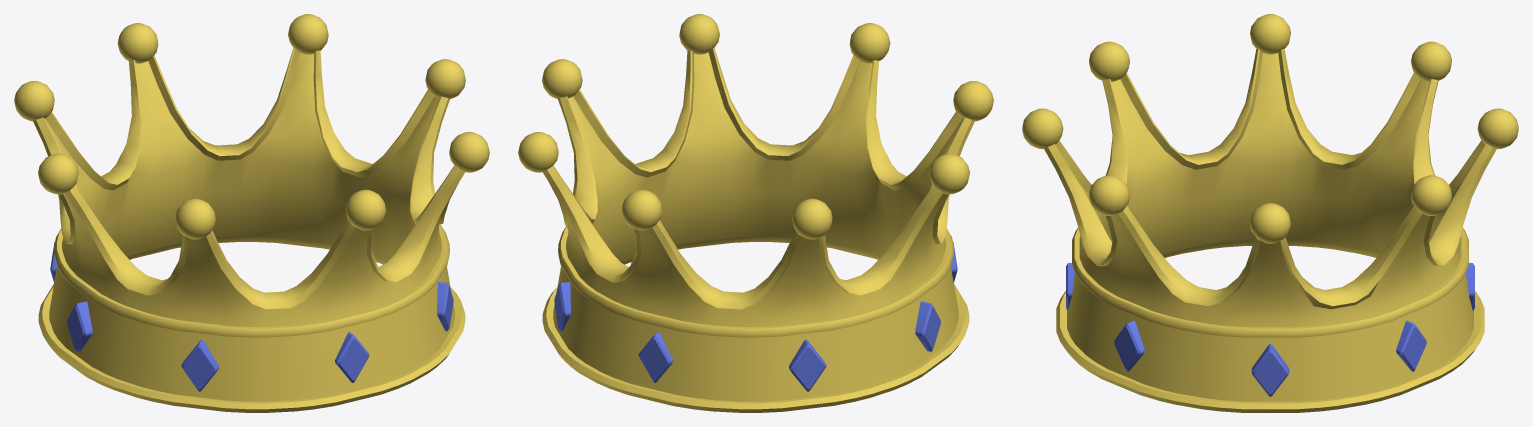
Rendered from tac.fbx.
The picture shows the model from 3 angles, left to right: view 1: azimuth 30°, elevation 25°; view 2: azimuth 150°, elevation 25°; view 3: azimuth 270°, elevation 25°; orthographic projection.
Parts seen in each view (by area): view 1: stickman.002; view 2: stickman.002; view 3: stickman.002.
Part boxes in pixels (bbox=[...]): stickman.002: bbox=[14, 14, 489, 412]; stickman.002: bbox=[518, 14, 993, 412]; stickman.002: bbox=[1022, 14, 1518, 412].
Bounding box in the file's own units: 0.6421 × 0.3144 × 0.654.
